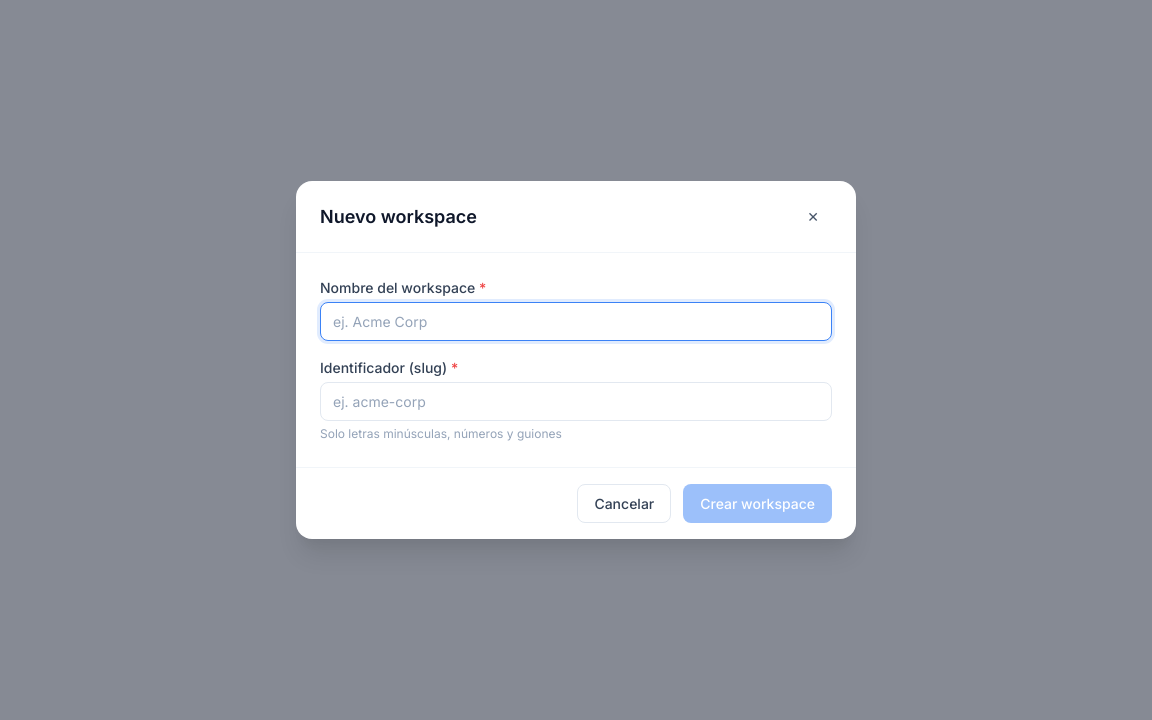
Test: CreateWorkspaceModal › enables submit when both fields are filled
In the field labelled "Nombre del workspace *": (576, 322) x1=320 y1=302 x2=832 y2=341, type "Nuevo Corp"
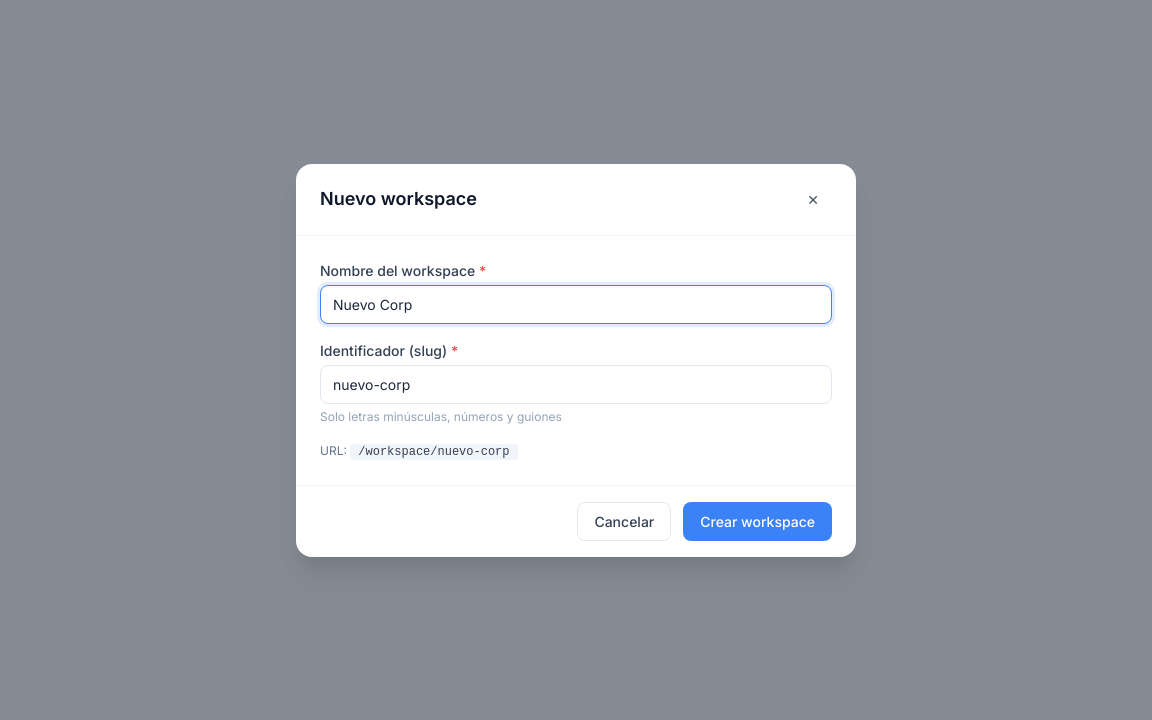
Expected: the button "Crear workspace" is enabled, x1=683 y1=502 x2=832 y2=540
